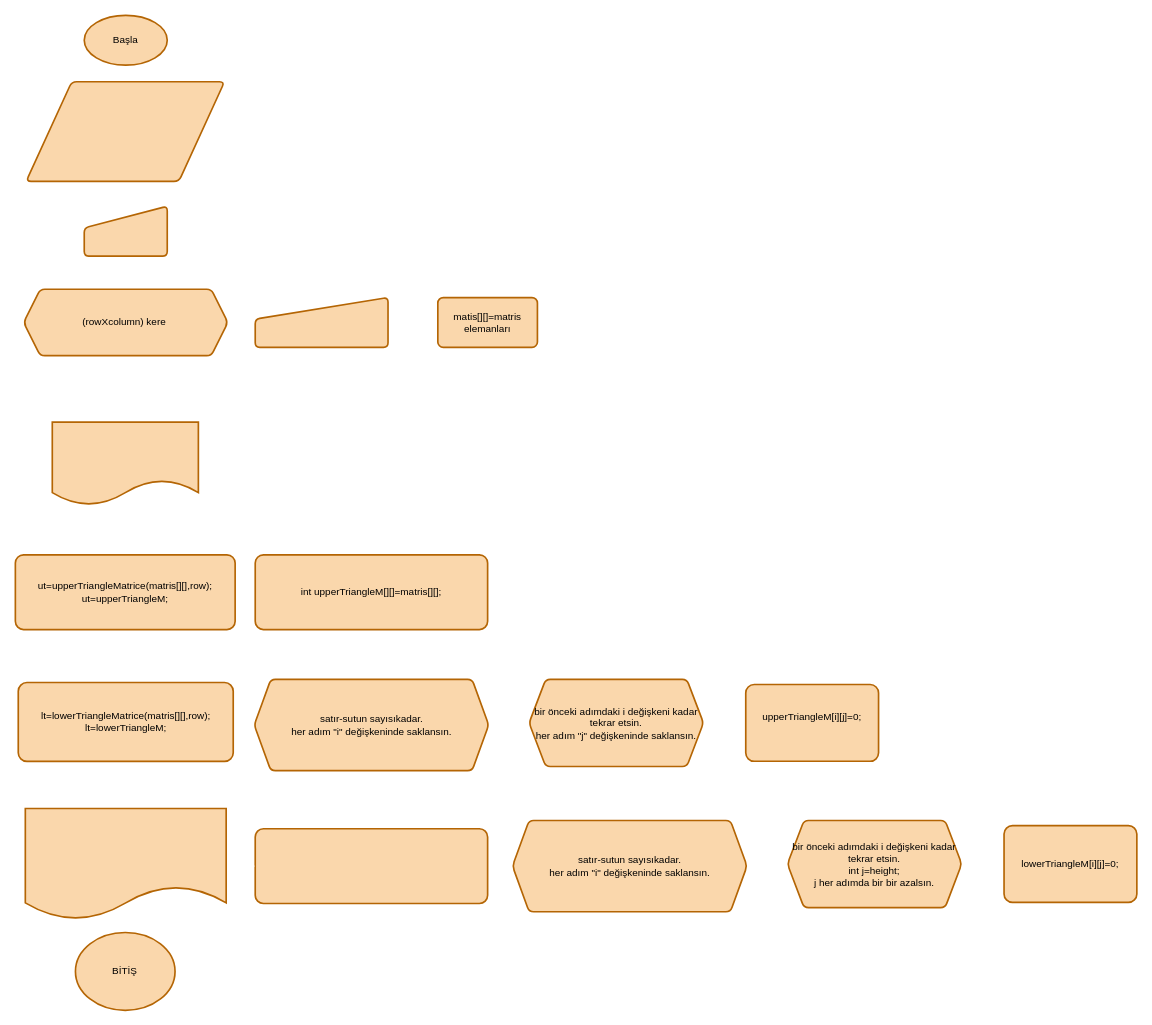
Image size: 1152x1025. Some labels were removed from this diagram. Each missing label, with the centre of its shape:
"üst üçgensel matris:" ut "alt üçgensel matris:" lt: point (125, 863)
:matris: matris[][]: point (125, 463)
int lowerTriangleM[][]=matris[][];: point (371, 866)
matris elemanları: point (321, 322)
row,column: point (125, 230)
row,column,matris[][] ut[][]//üst üçgensel matris lt[][]//alt üçgensel matris: point (125, 131)
